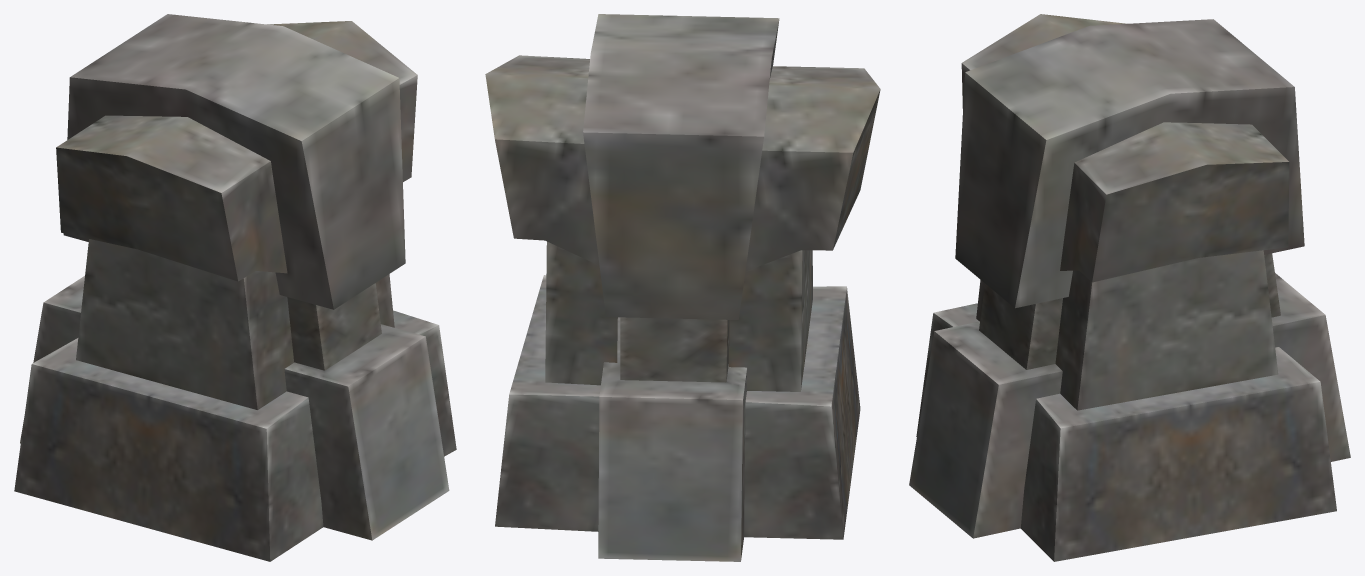
The model's file is Tower_B_2.fbx.
3 renders of one model, left to right at view 1: azimuth 30°, elevation 25°; view 2: azimuth 150°, elevation 25°; view 3: azimuth 270°, elevation 25°, orthographic.
Visible parts, largest first — view 1: Tower_B_2; view 2: Tower_B_2; view 3: Tower_B_2.
Part boxes in pixels (x1,y1,x2,y2): Tower_B_2: (14, 14, 456, 561); Tower_B_2: (485, 14, 880, 561); Tower_B_2: (909, 14, 1350, 561).
Bounding box in the file's own units: 0.3051 × 0.3186 × 0.3099.
Materials: 1 (1 with a texture image).
